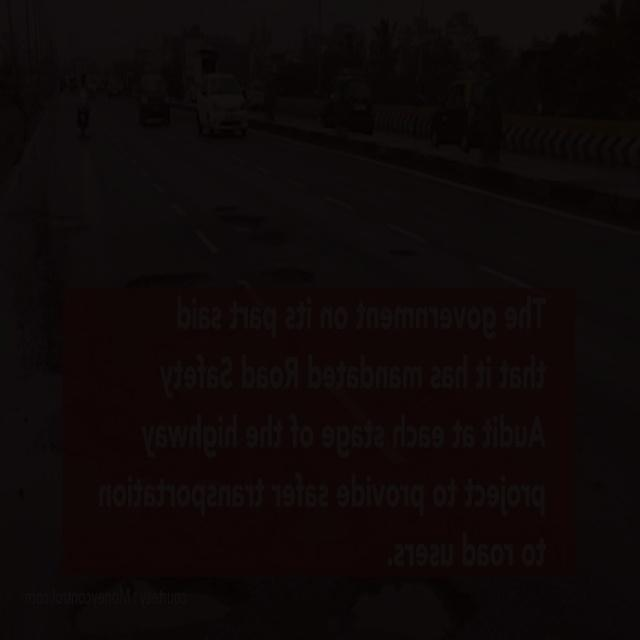Pothole: (339, 572, 502, 640), (65, 576, 246, 634), (217, 203, 290, 250), (131, 267, 213, 289), (273, 256, 321, 286), (380, 241, 422, 262)
